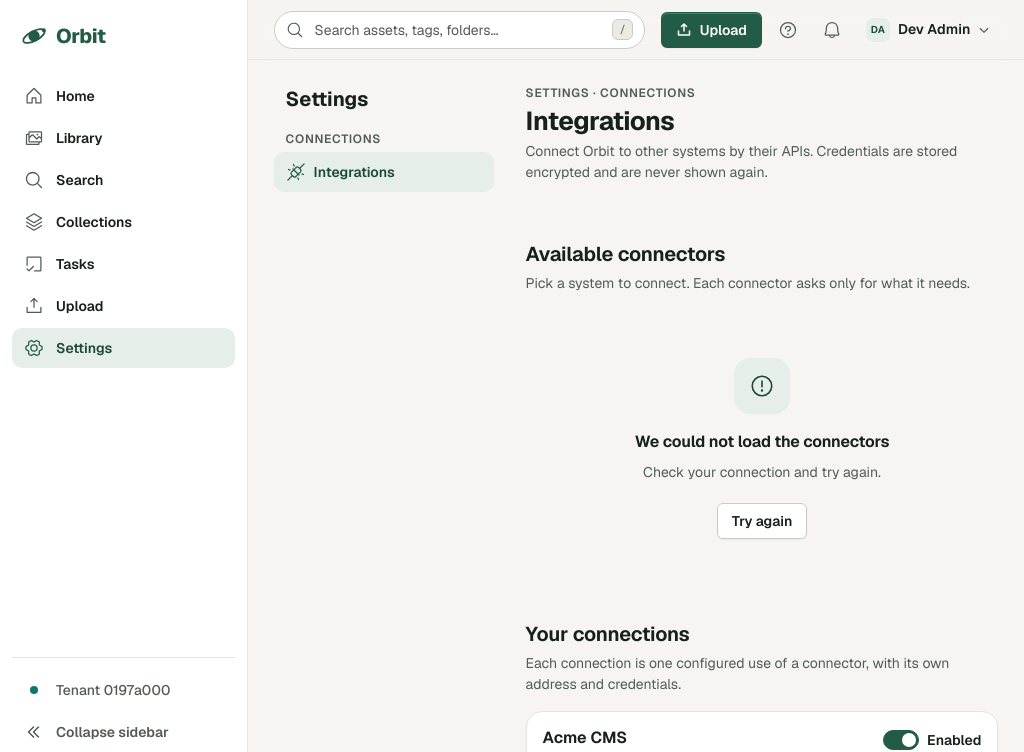
Test: connector catalog › shows a loading state, then an error with a retry
Check: the text "We could not load the connectors" is shown, box [635,430,889,454]
Click the button "Try again": click(762, 521) [717,503,807,539]
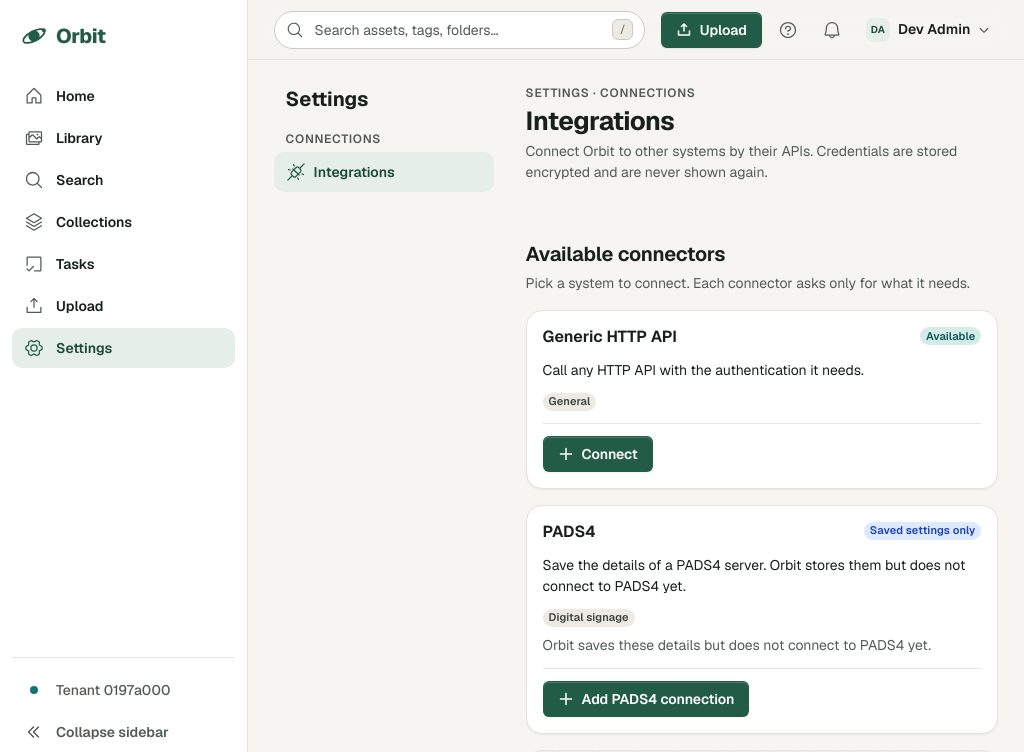
Check: the heading "Generic HTTP API" is shown, box [543,327,677,348]
